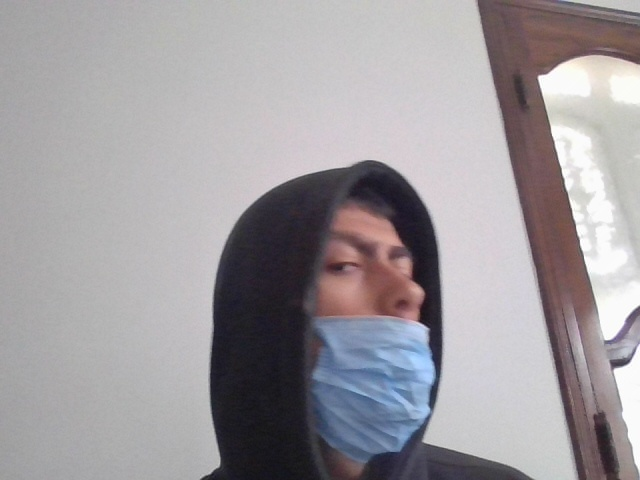mask_weared_incorrect: (301, 185, 448, 479)
